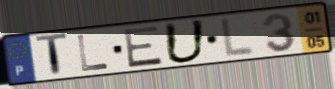3: (260, 11, 298, 54)
E: (121, 24, 165, 70)
L: (219, 16, 257, 60), (75, 33, 112, 74)
T: (34, 31, 70, 79)
U: (162, 18, 208, 65)
